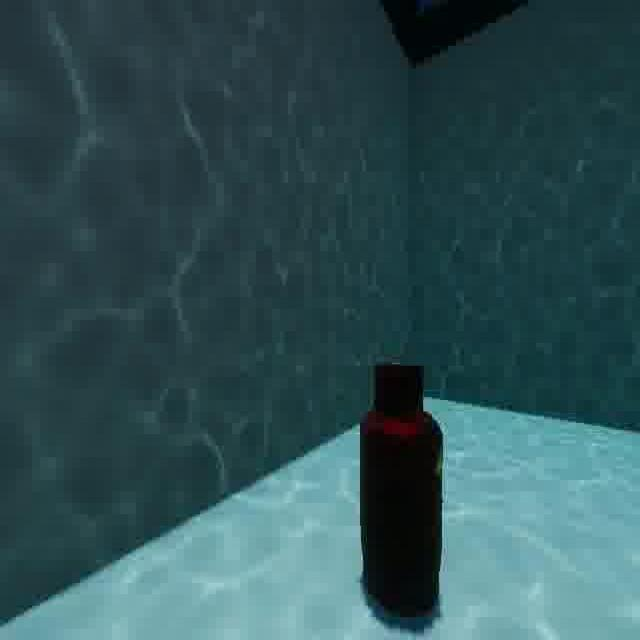Cylinder: (356, 350, 449, 626)
